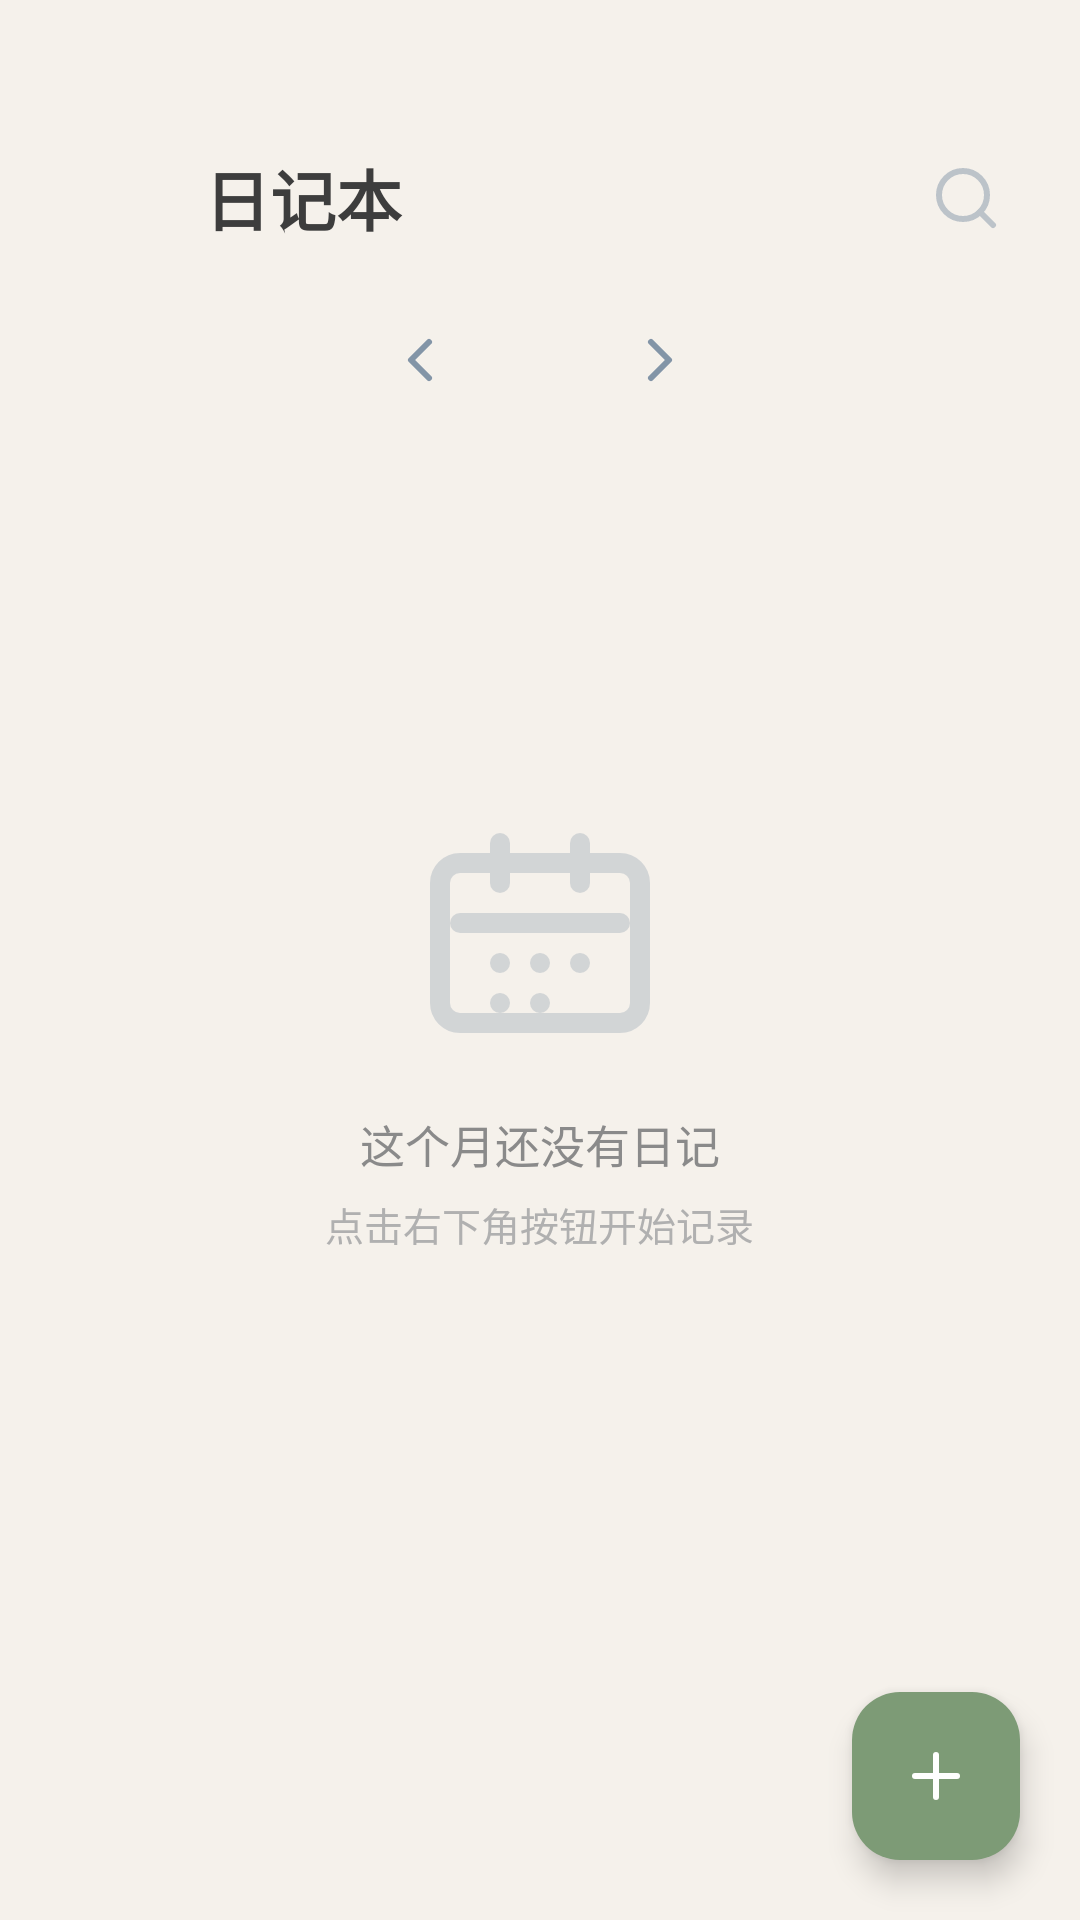

Screen size 1080x1920. Icon name, then its box in pixels as box(x1, y1, x2, y2):
下个月: box(648, 339, 672, 381)
搜索: box(936, 168, 996, 228)
新建日记: box(852, 1692, 1020, 1860)
